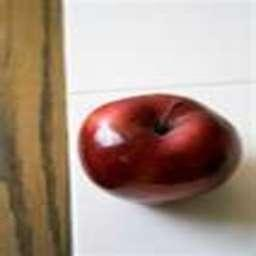apple: (75, 93, 242, 207)
